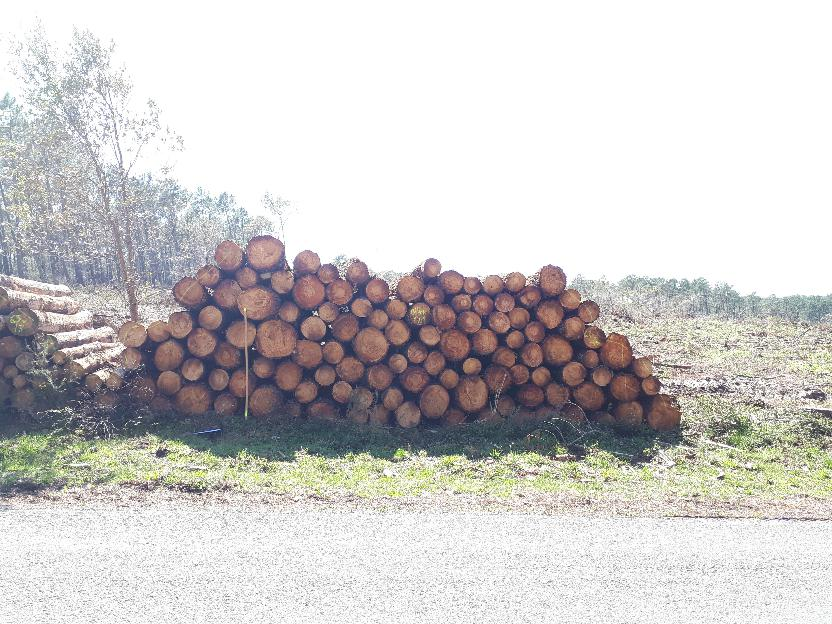object: (257, 318, 297, 356), (455, 374, 493, 412), (246, 234, 284, 270), (352, 325, 390, 361), (648, 394, 684, 432), (172, 382, 212, 416), (238, 286, 276, 320), (416, 381, 450, 419), (600, 330, 630, 370), (210, 236, 244, 270), (228, 364, 260, 398), (250, 384, 284, 416), (540, 335, 572, 367), (292, 276, 326, 306), (166, 310, 198, 341), (609, 370, 642, 400), (612, 401, 640, 434), (128, 372, 156, 404), (484, 362, 510, 396), (576, 380, 602, 414), (292, 248, 323, 276), (330, 314, 362, 341), (272, 361, 304, 388), (9, 307, 39, 335), (540, 263, 566, 295), (176, 276, 204, 304), (214, 278, 242, 306), (293, 339, 321, 367), (214, 342, 242, 370), (393, 399, 422, 426), (309, 398, 341, 422), (398, 365, 426, 392), (154, 370, 182, 397), (228, 320, 257, 346), (326, 279, 354, 305), (441, 331, 469, 357), (188, 332, 216, 358), (178, 354, 206, 380), (152, 345, 182, 369), (471, 327, 497, 354), (380, 384, 405, 412), (302, 315, 328, 341), (117, 344, 143, 370), (293, 378, 319, 404), (538, 299, 562, 327), (144, 320, 172, 344), (35, 332, 63, 356), (252, 353, 280, 377), (366, 363, 394, 387), (347, 260, 372, 286), (384, 318, 410, 343), (399, 274, 423, 300), (562, 316, 586, 342), (120, 320, 146, 344), (331, 378, 355, 404), (516, 382, 544, 404), (196, 306, 221, 330), (432, 304, 459, 326), (367, 277, 389, 303), (516, 286, 542, 308), (337, 357, 365, 377), (10, 387, 38, 407), (562, 359, 586, 382), (546, 381, 570, 404), (488, 310, 510, 335), (586, 323, 606, 350), (270, 270, 294, 292), (441, 270, 465, 292), (528, 365, 552, 387), (349, 298, 375, 318), (522, 341, 542, 367), (496, 392, 516, 418), (196, 263, 219, 285), (410, 301, 433, 323), (444, 405, 468, 426), (420, 256, 442, 278), (423, 283, 445, 305), (474, 294, 496, 316), (459, 311, 481, 333), (641, 372, 663, 394), (15, 350, 39, 370), (314, 365, 336, 386), (482, 274, 504, 294), (561, 288, 583, 308), (451, 290, 473, 310), (580, 298, 600, 320), (279, 300, 299, 322), (318, 300, 338, 322), (509, 306, 531, 326), (208, 368, 228, 390), (214, 393, 236, 413), (368, 404, 388, 426), (506, 270, 526, 290), (388, 298, 408, 318), (62, 360, 82, 380), (84, 371, 104, 391), (323, 341, 342, 362), (425, 352, 444, 373), (421, 322, 439, 344), (407, 342, 429, 360), (496, 345, 518, 363), (580, 346, 598, 368), (594, 361, 610, 385), (320, 262, 338, 282), (237, 268, 257, 286), (497, 290, 515, 310), (634, 356, 652, 376), (389, 354, 407, 372), (440, 367, 458, 385), (465, 274, 482, 292), (505, 328, 524, 344), (369, 308, 385, 326), (462, 357, 480, 373), (109, 375, 125, 390), (511, 364, 525, 381), (528, 320, 542, 336), (4, 361, 18, 377), (14, 376, 28, 386)
pile: (84, 222, 696, 438)
